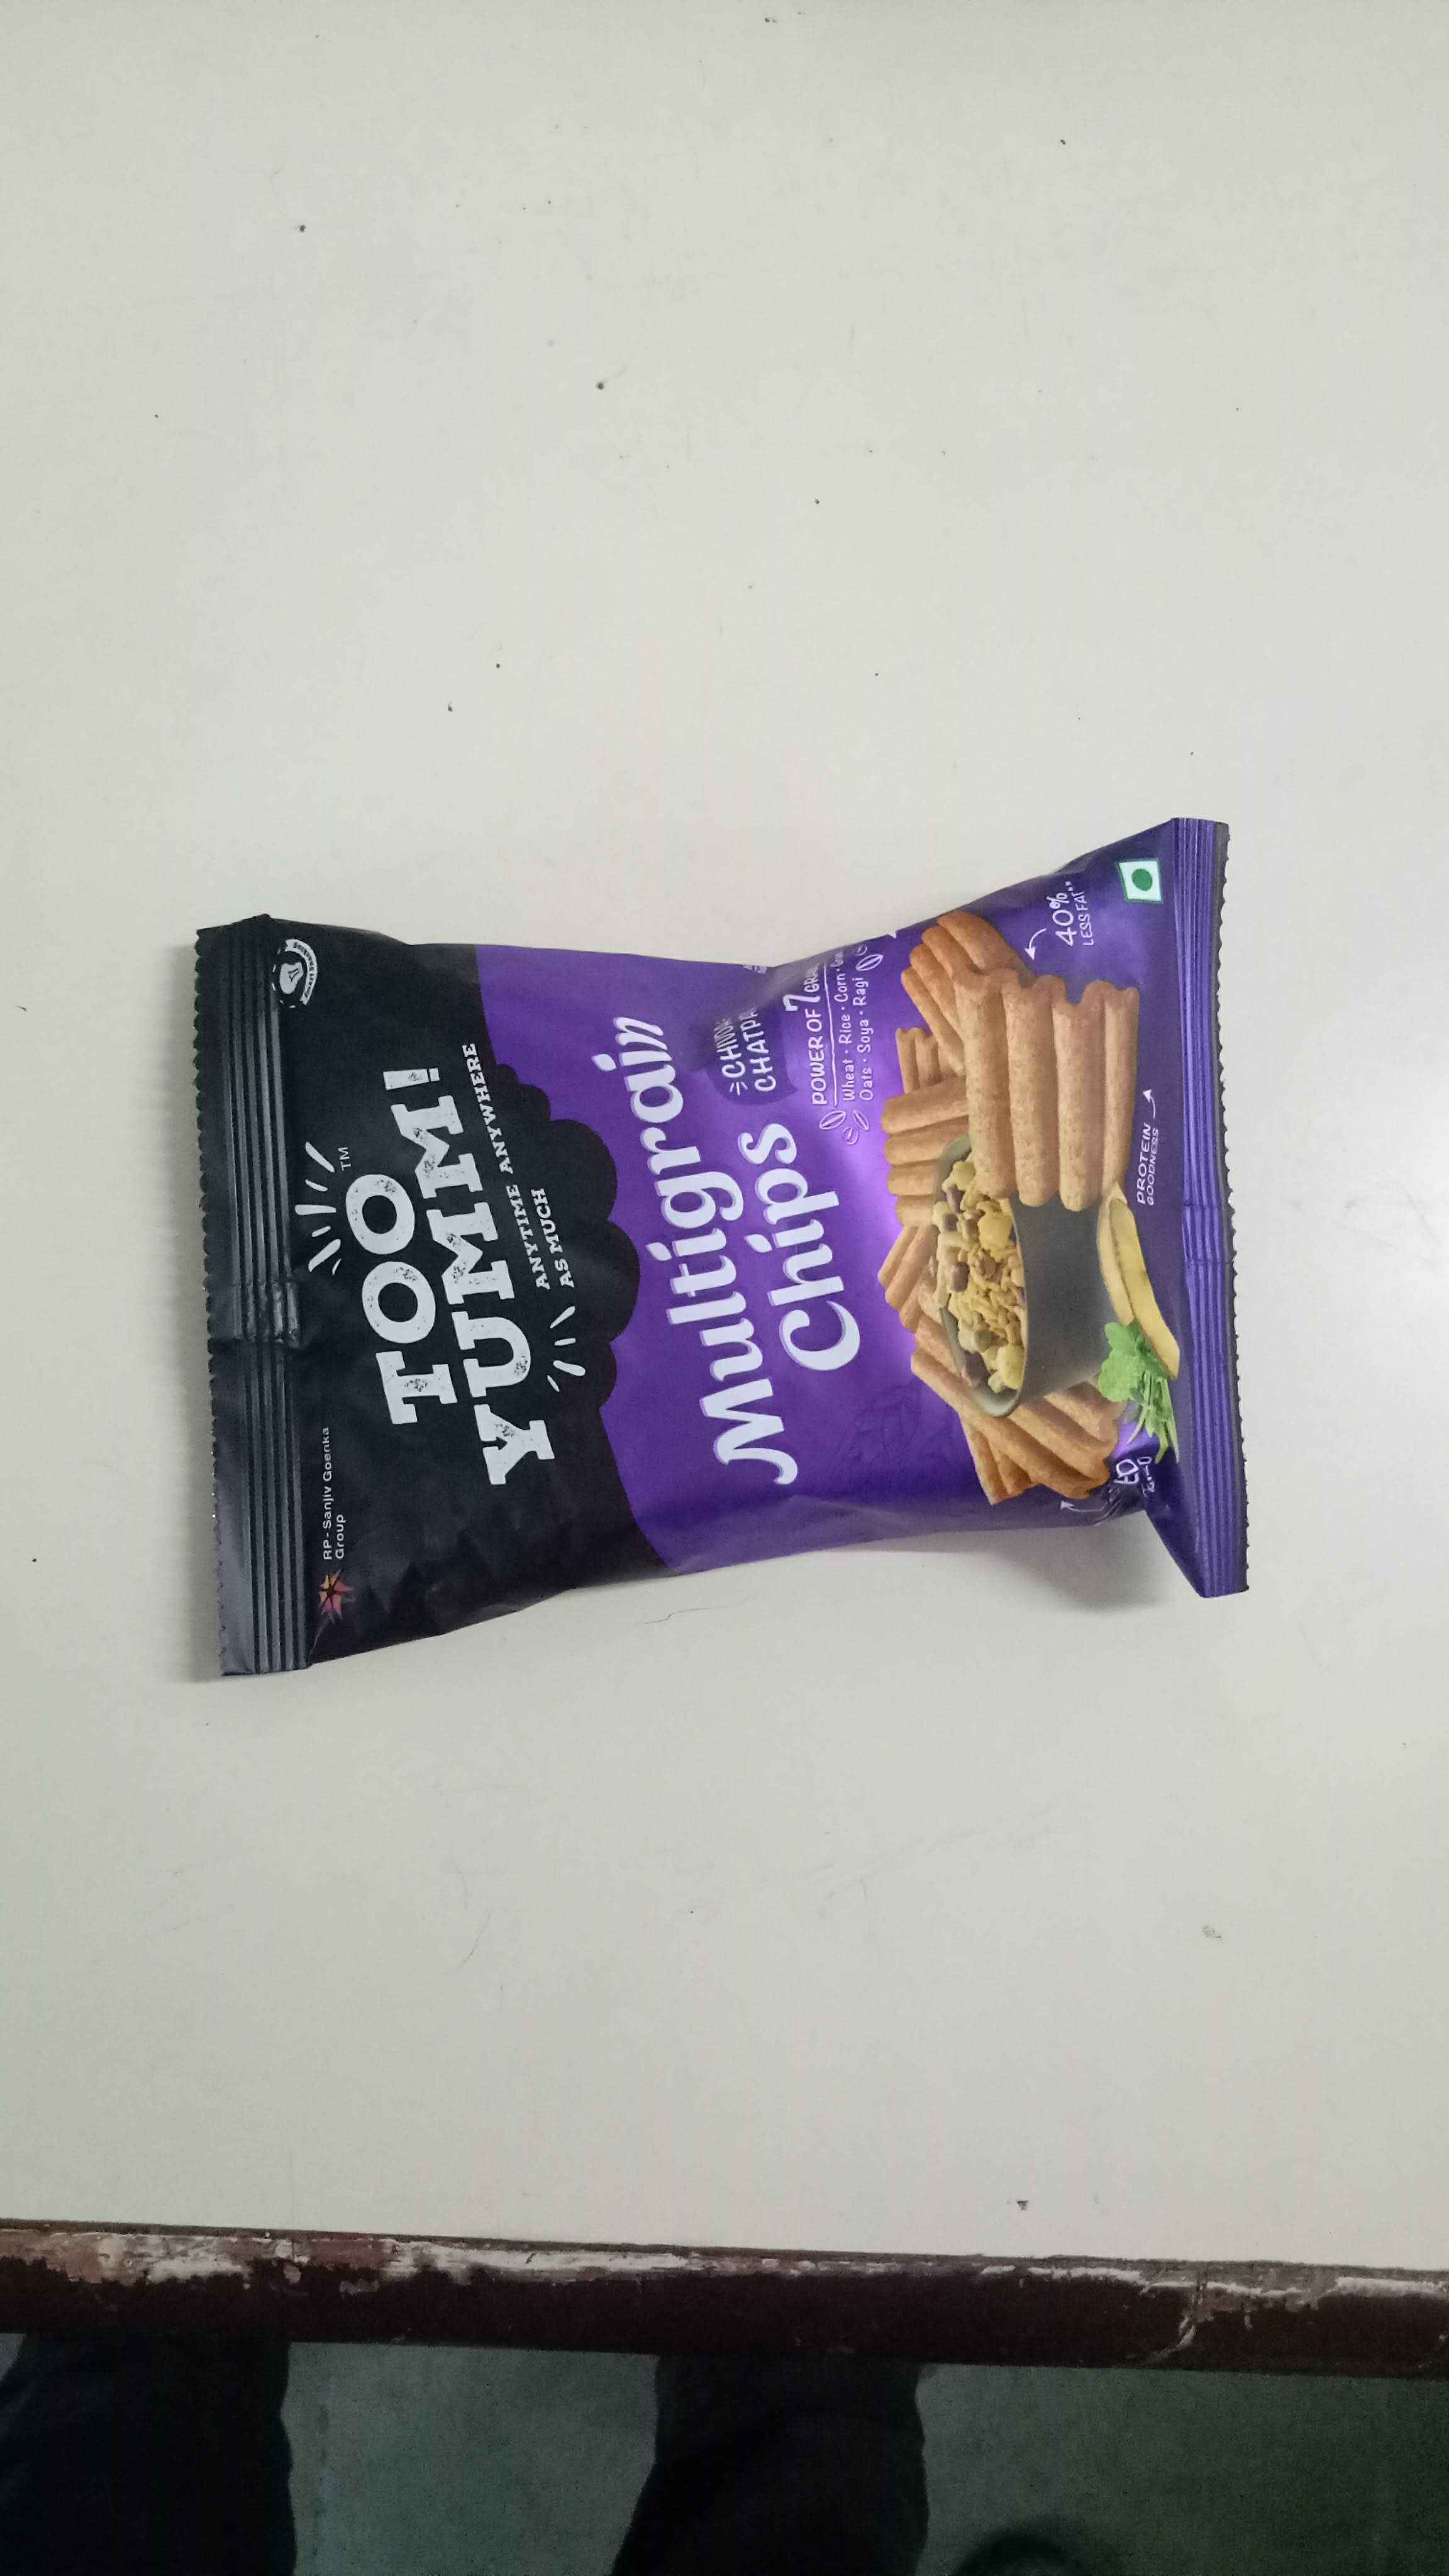tooyumm: (308, 1035, 587, 1490)
